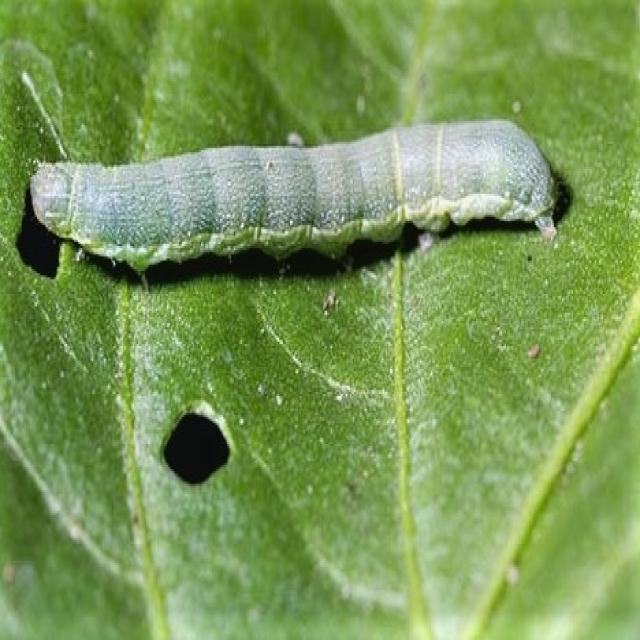armyworm: (28, 115, 560, 273)
